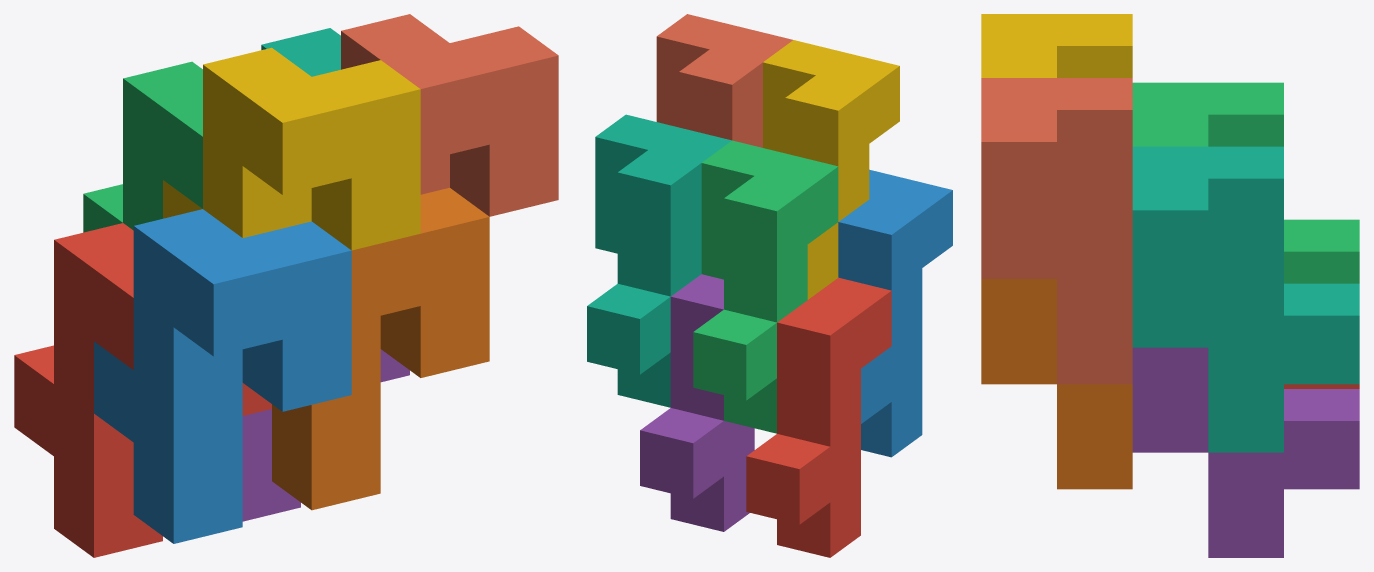
The model's file is tiling.obj.
3 renders of one model, left to right at view 1: azimuth 30°, elevation 25°; view 2: azimuth 150°, elevation 25°; view 3: azimuth 270°, elevation 25°, orthographic. The views are drawn at different scales.
Parts seen in each view (by area): view 1: copy_1_domain_2, copy_1_domain_4, copy_1_domain_6, copy_1_domain_1, copy_1_domain_8, copy_1_domain_3, copy_1_domain_5, copy_1_domain_7; view 2: copy_1_domain_3, copy_1_domain_1, copy_1_domain_7, copy_1_domain_2, copy_1_domain_4, copy_1_domain_5, copy_1_domain_8; view 3: copy_1_domain_7, copy_1_domain_8, copy_1_domain_5, copy_1_domain_6, copy_1_domain_3, copy_1_domain_4.
Boxes of the visible parts, x1=… form: copy_1_domain_2: x1=94, y1=209, x2=351, y2=543; copy_1_domain_4: x1=163, y1=47, x2=420, y2=250; copy_1_domain_6: x1=272, y1=187, x2=489, y2=510; copy_1_domain_1: x1=14, y1=223, x2=271, y2=557; copy_1_domain_8: x1=341, y1=14, x2=558, y2=216; copy_1_domain_3: x1=83, y1=61, x2=202, y2=232; copy_1_domain_5: x1=242, y1=349, x2=409, y2=521; copy_1_domain_7: x1=261, y1=28, x2=340, y2=76; copy_1_domain_3: x1=693, y1=140, x2=838, y2=433; copy_1_domain_1: x1=746, y1=277, x2=891, y2=557; copy_1_domain_7: x1=587, y1=114, x2=731, y2=407; copy_1_domain_2: x1=838, y1=169, x2=952, y2=457; copy_1_domain_4: x1=763, y1=40, x2=899, y2=299; copy_1_domain_5: x1=640, y1=274, x2=754, y2=531; copy_1_domain_8: x1=656, y1=14, x2=792, y2=147; copy_1_domain_7: x1=1132, y1=146, x2=1359, y2=452; copy_1_domain_8: x1=981, y1=78, x2=1132, y2=384; copy_1_domain_5: x1=1132, y1=347, x2=1359, y2=557; copy_1_domain_6: x1=981, y1=279, x2=1132, y2=489; copy_1_domain_3: x1=1132, y1=82, x2=1359, y2=283; copy_1_domain_4: x1=981, y1=14, x2=1132, y2=77.
Bounding box in the file's own units: 5 × 7 × 5.
